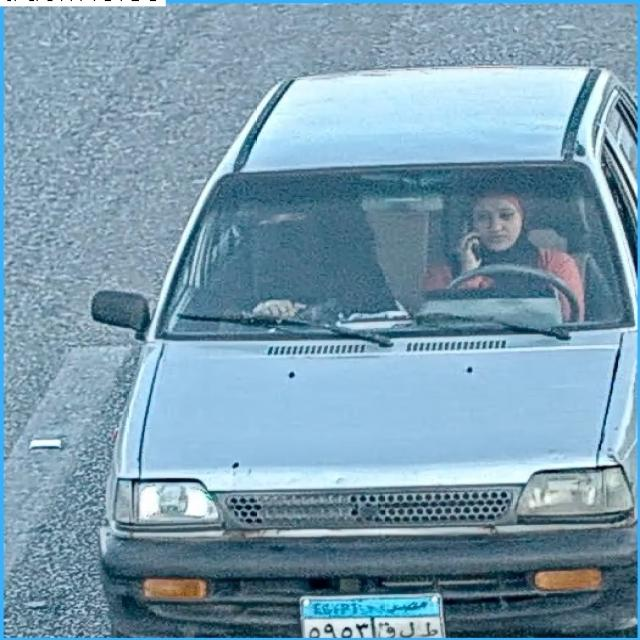windshield: (166, 162, 631, 333)
